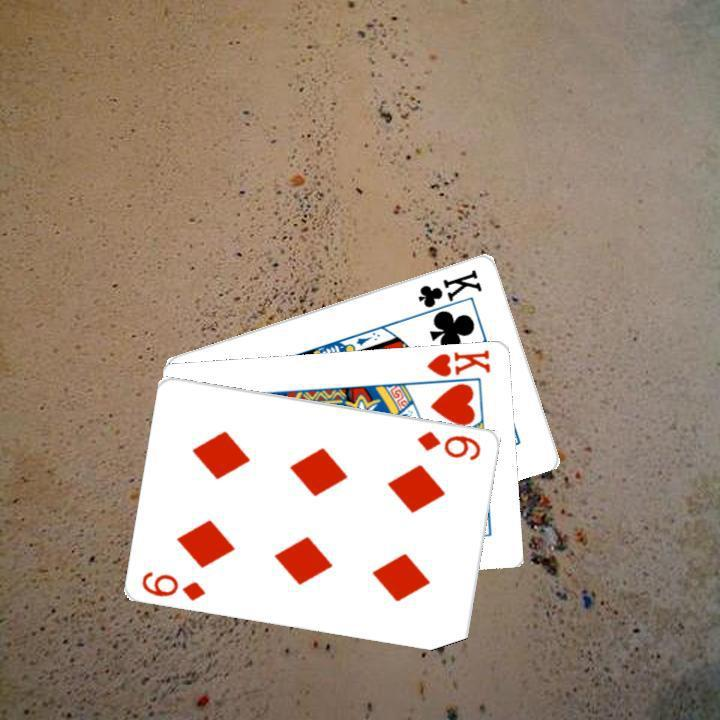6: (413, 426, 484, 462), (138, 567, 208, 602)
K: (412, 264, 484, 319), (423, 345, 493, 378)
